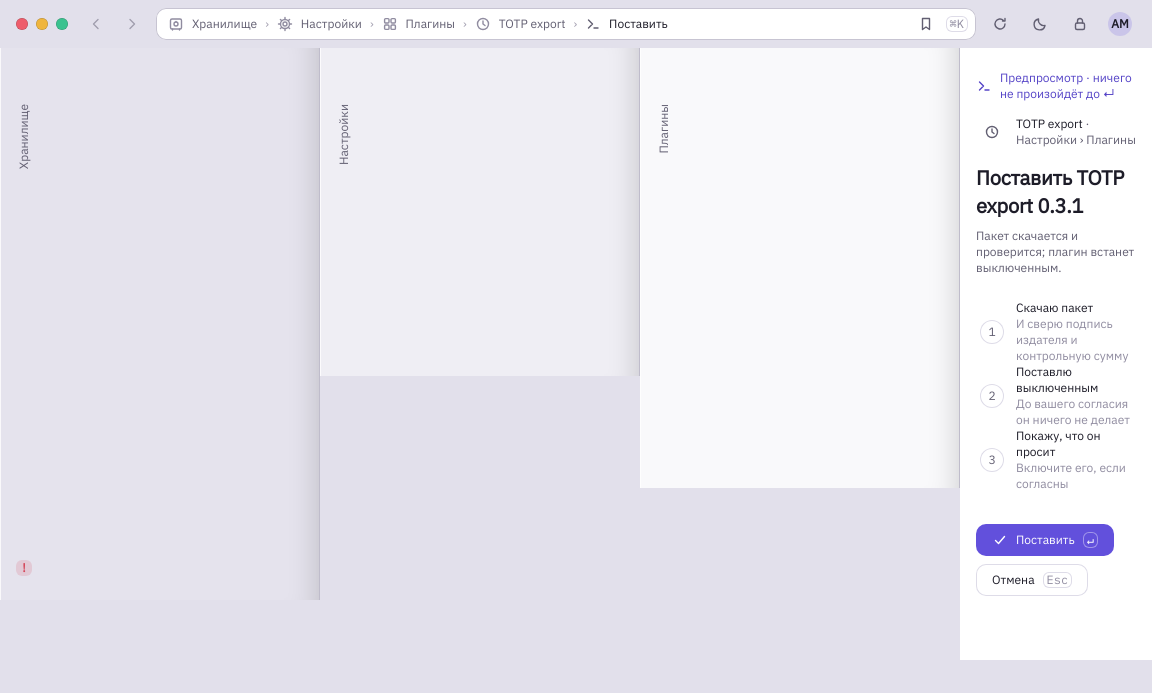
Scenario: the Plugins page in the window › installs from the catalogue, then opens the consent of what it installed
What coordinates should you click on to do the following:
click the button "Поставить ↵"
I would click on:
 (1045, 540)
Its box is [976,524,1114,556].
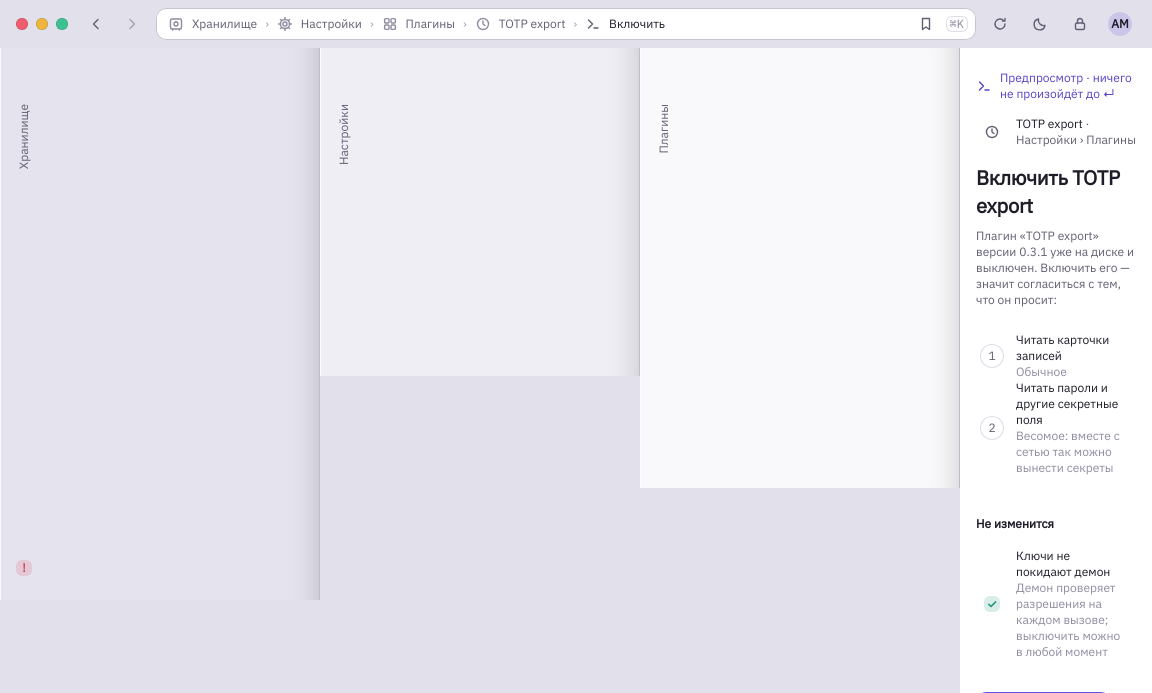
Now the text "Читать пароли и другие секретные поля" is shown, box [1016,380,1136,428]
